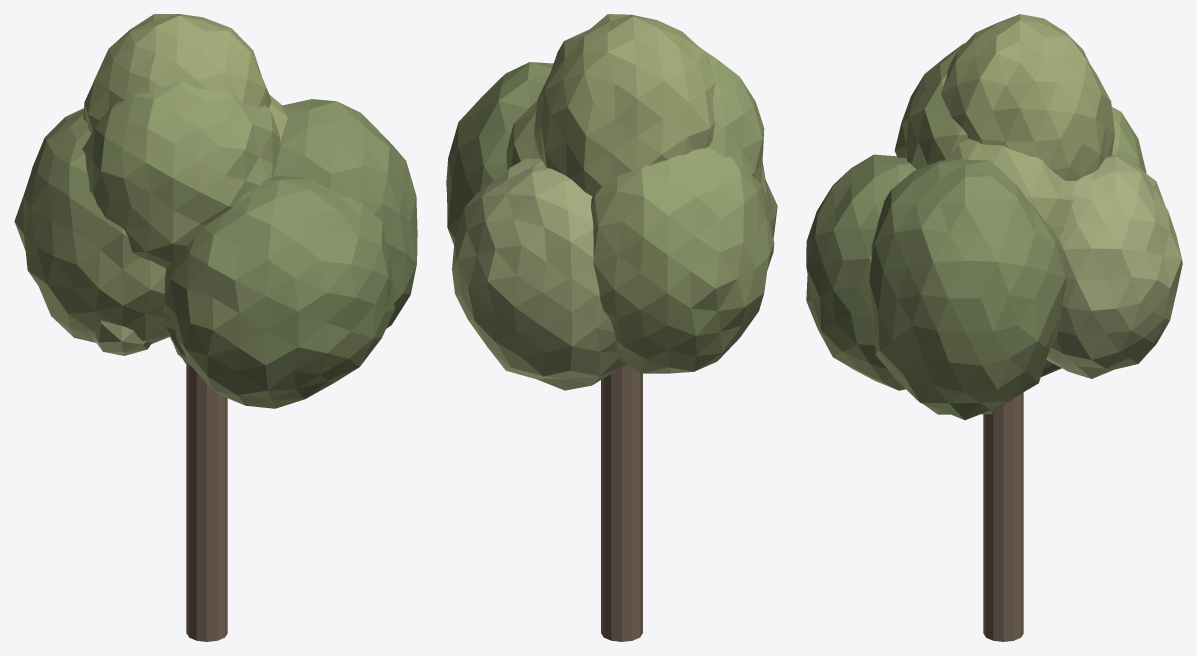
File: small_deciduous_tree_real3d_b.glb
3 renders of one model, left to right at view 1: azimuth 30°, elevation 25°; view 2: azimuth 150°, elevation 25°; view 3: azimuth 270°, elevation 25°, orthographic. The views are drawn at different scales.
Visible parts, largest first — view 1: world; view 2: world; view 3: world.
Part boxes in pixels (box(x1,y1,x2,y2)): world: box(14, 14, 417, 641); world: box(446, 14, 777, 641); world: box(806, 14, 1182, 641).
Size of the model in its own units: 3.39 by 6.05 by 3.42.
